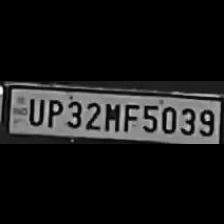0: (158, 103, 178, 133)
2: (82, 97, 102, 129)
3: (64, 96, 82, 128), (178, 103, 195, 135)
5: (138, 100, 158, 132)
9: (196, 104, 216, 136)
F: (121, 99, 137, 131)
M: (102, 98, 120, 130)
P: (43, 96, 62, 127)
U: (24, 94, 44, 124)
